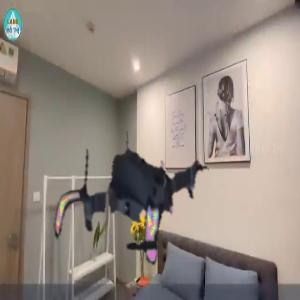drone: (50, 122, 215, 287)
